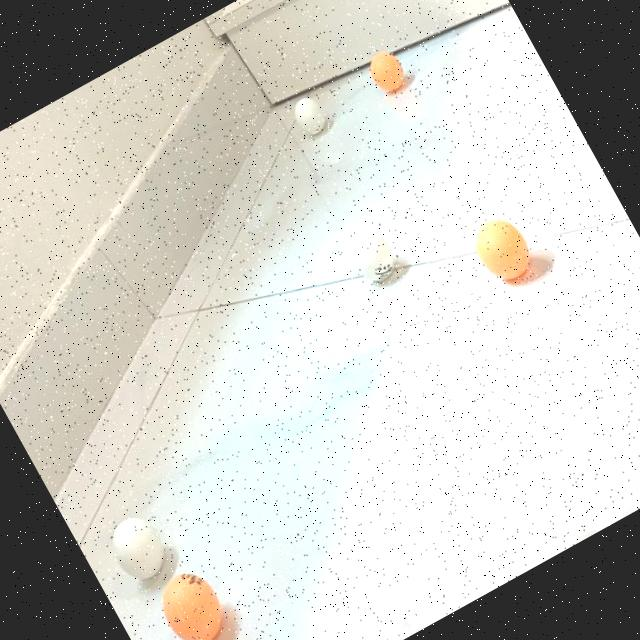ping-pong-ball: (150, 564, 234, 640), (103, 508, 176, 588), (466, 208, 538, 288), (342, 222, 402, 290), (363, 46, 410, 98), (288, 94, 330, 140)
